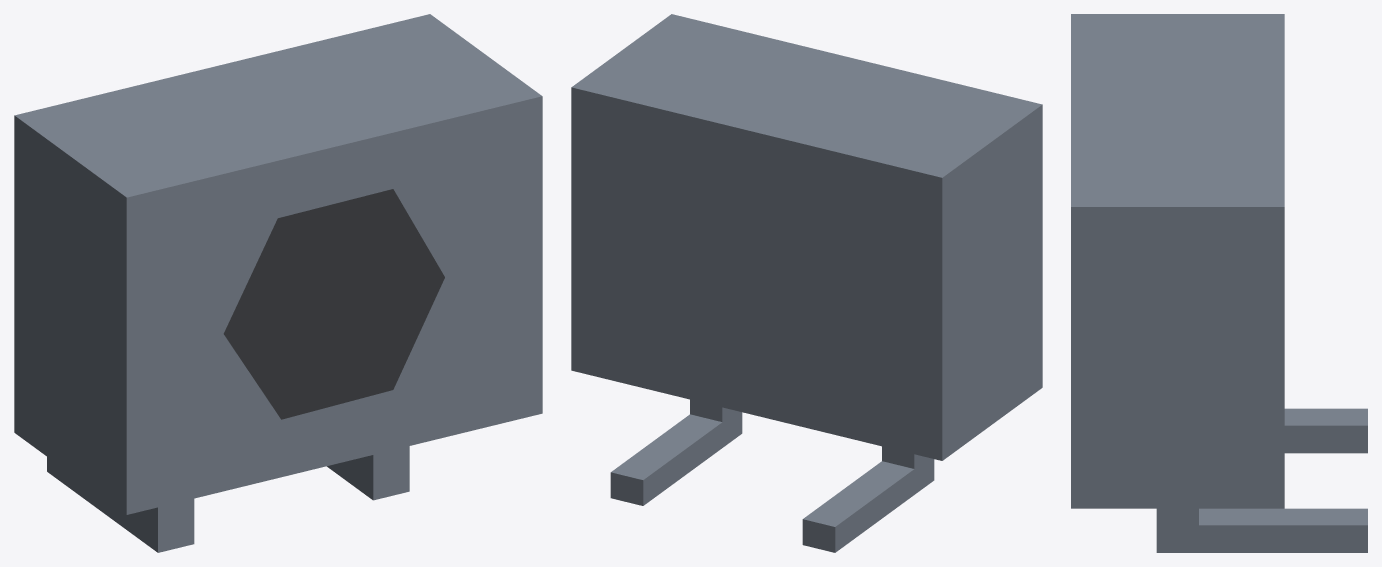
The model's file is Building_Objects_Air_Conditioner.fbx.
The picture shows the model from 3 angles, left to right: view 1: azimuth 30°, elevation 25°; view 2: azimuth 150°, elevation 25°; view 3: azimuth 270°, elevation 25°; orthographic projection. The views are drawn at different scales.
Parts seen in each view (by area): view 1: Building_Objects_Air_Conditioner; view 2: Building_Objects_Air_Conditioner; view 3: Building_Objects_Air_Conditioner.
Boxes of the visible parts, box(x1,y1,x2,y2) form: Building_Objects_Air_Conditioner: box(14, 14, 542, 552); Building_Objects_Air_Conditioner: box(571, 14, 1042, 552); Building_Objects_Air_Conditioner: box(1071, 14, 1367, 552).
Bounding box in the file's own units: 131 × 122 × 85.07.
